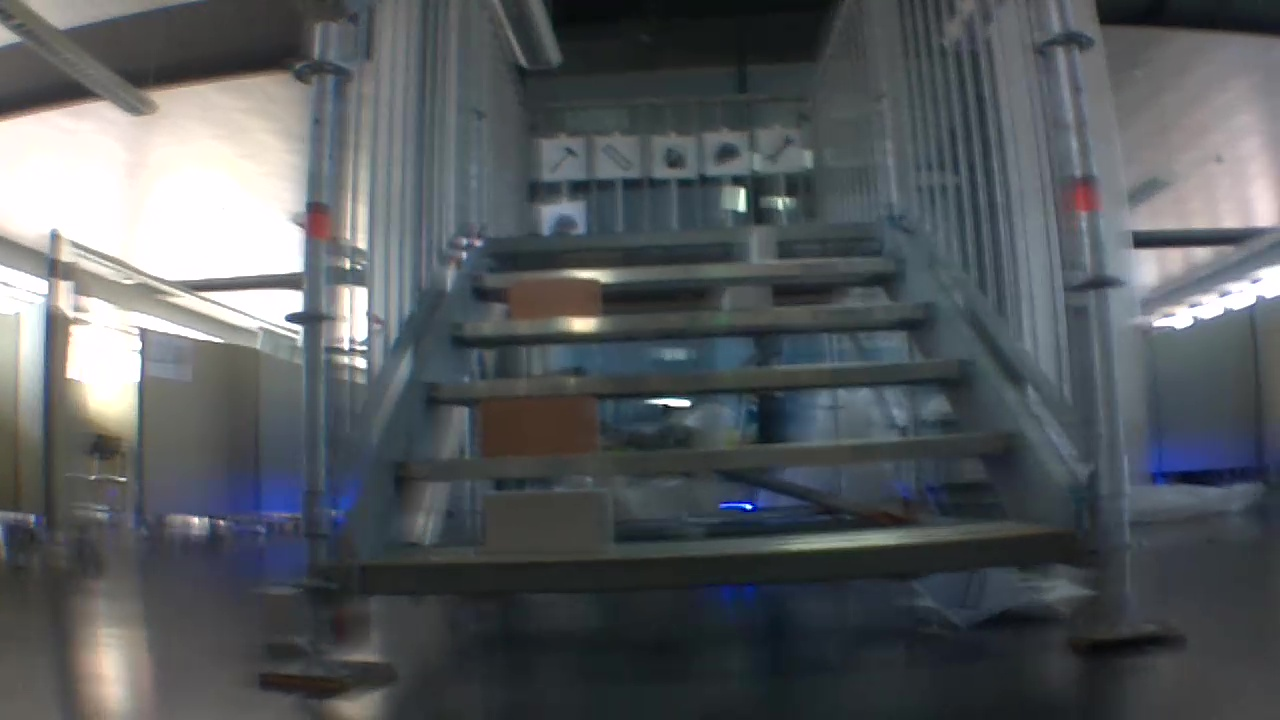brick: (485, 488, 609, 552), (481, 399, 594, 456), (511, 277, 598, 315), (263, 584, 303, 643), (723, 285, 770, 309), (749, 227, 775, 260)
bucket: (659, 139, 691, 173)
edge: (355, 527, 1076, 592), (396, 431, 1011, 476), (429, 359, 961, 394), (450, 303, 928, 332), (472, 257, 902, 288), (484, 225, 880, 245)
hammer: (543, 141, 584, 179)
ruler: (598, 140, 637, 174)
stairs: (258, 5, 1183, 691)
steps: (350, 220, 1083, 600)
taco: (541, 207, 582, 235), (711, 138, 741, 170)
wrench: (758, 130, 797, 167)
